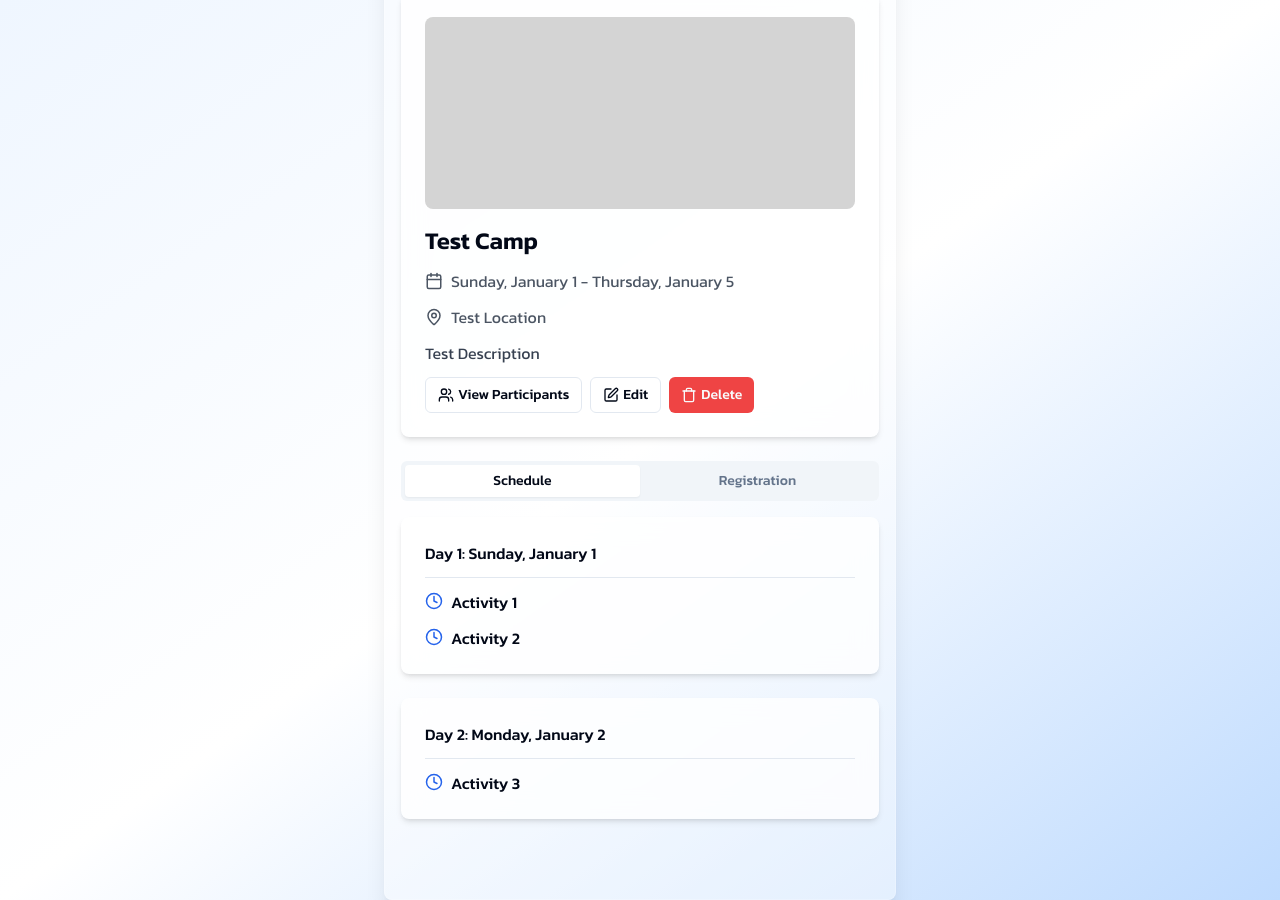
Test case: CampDetail Page › shows update button for registered users
The width and height of the screenshot is (1280, 900).
(page scrolled)
Expected: the text "Test Description" is shown, [425,341,540,365]
// Find and click the Registration tab
What coordinates should you click on to do the following:
click the tab "Registration"
I would click on:
 (758, 481)
Its box is [640,465,875,497].
(page scrolled)
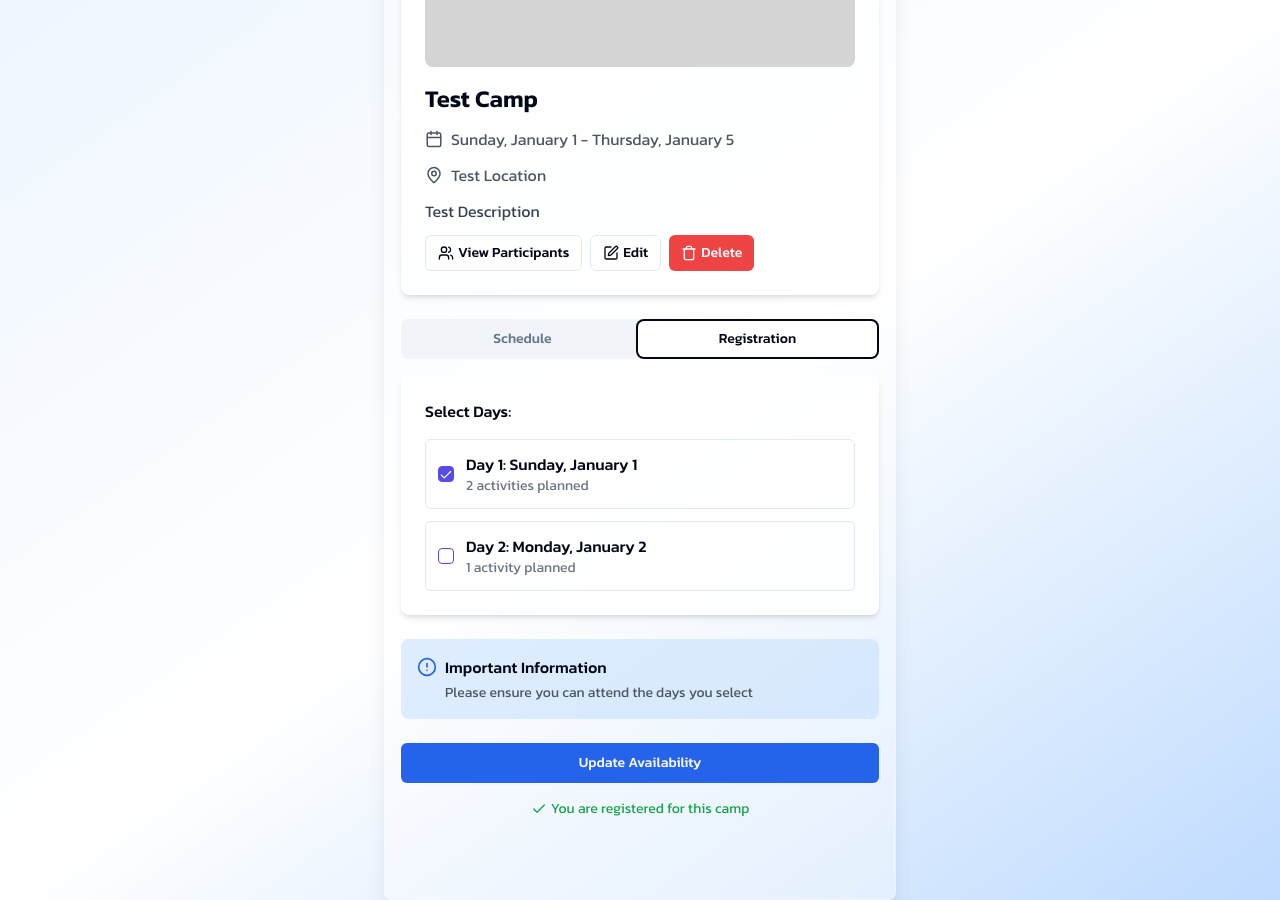
Expected: the checkbox next to "Day 1" is shown, [438,466,454,482]
Expected: the button "Update Availability" is shown, [401,743,879,783]
Expected: the text "You are registered for this camp" is shown, [551,799,749,819]
